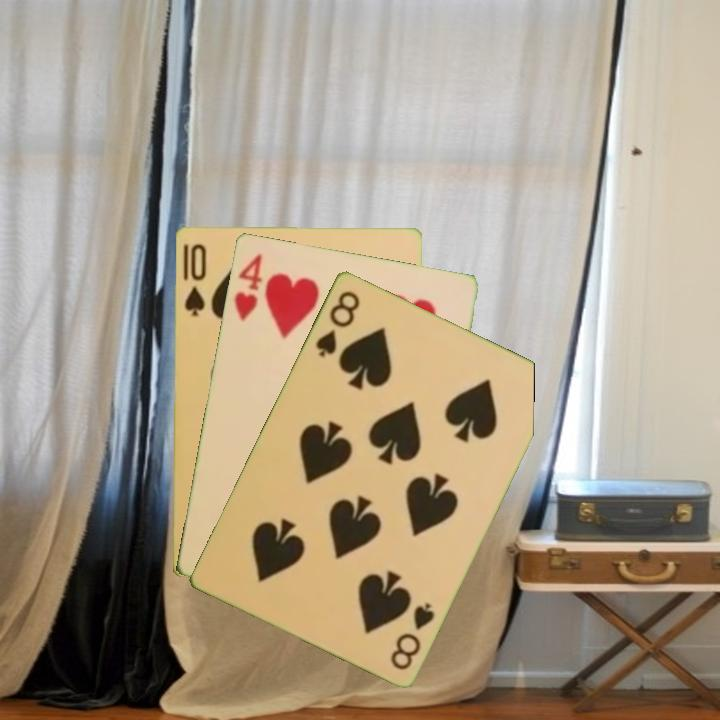10s: (180, 239, 209, 318)
4h: (230, 249, 265, 324)
8s: (386, 598, 437, 673), (311, 286, 363, 359)
